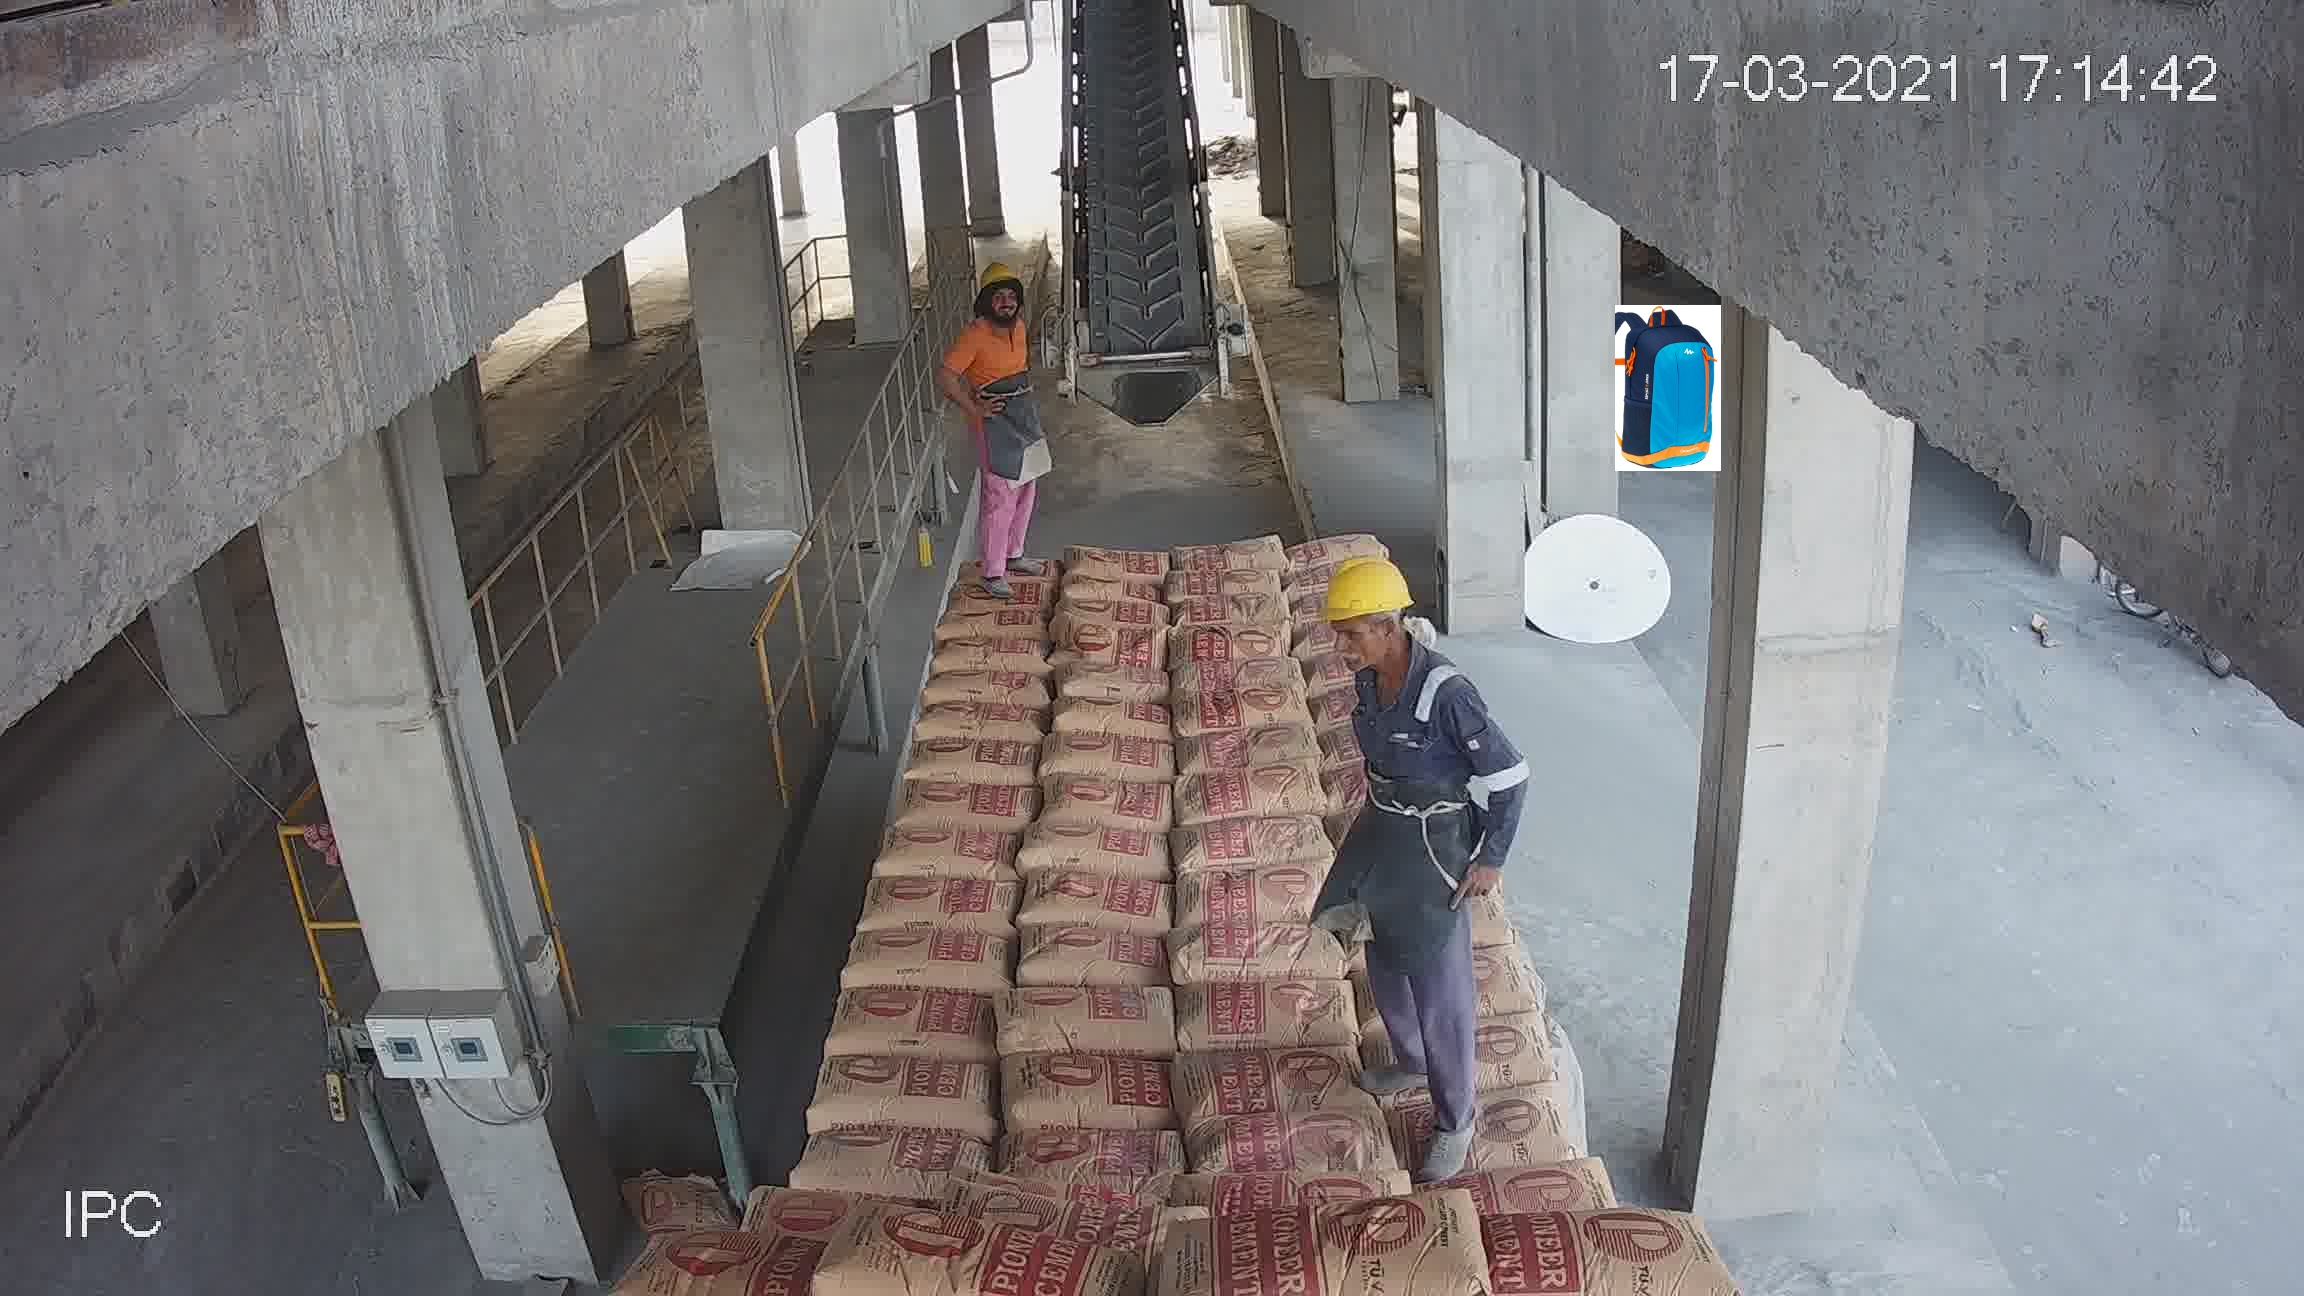bag_h: (1190, 1204, 1503, 1296), (809, 1218, 1124, 1294), (1442, 1214, 1703, 1294), (1190, 1074, 1408, 1169), (1173, 975, 1374, 1054), (999, 984, 1195, 1065), (809, 1055, 1008, 1135), (628, 1223, 848, 1294), (823, 980, 1010, 1063), (1184, 1101, 1372, 1180), (1008, 1051, 1188, 1131), (1410, 1098, 1586, 1174), (786, 1127, 999, 1188), (995, 1120, 1187, 1187), (858, 873, 1024, 945), (837, 927, 1013, 994), (1169, 862, 1329, 934), (1177, 926, 1347, 991), (1442, 1163, 1612, 1225), (1185, 756, 1336, 824), (1025, 817, 1168, 886), (1014, 930, 1176, 989), (1022, 873, 1180, 932), (1177, 812, 1323, 875), (892, 782, 1041, 837), (1046, 774, 1177, 832), (872, 829, 1019, 881), (1165, 654, 1309, 704), (908, 699, 1055, 748), (1179, 722, 1318, 772), (907, 737, 1041, 790), (1177, 687, 1320, 734), (1048, 737, 1176, 785), (911, 665, 1048, 709), (1059, 657, 1174, 707), (1065, 612, 1165, 671), (927, 638, 1063, 676), (1174, 619, 1293, 661), (927, 601, 1046, 642), (1054, 597, 1177, 635), (1052, 699, 1157, 744), (1169, 527, 1290, 563), (1067, 541, 1171, 582), (1173, 592, 1291, 627), (1169, 565, 1282, 600), (1288, 532, 1388, 570), (1054, 573, 1165, 606)
belt: (1062, 19, 1214, 388)
